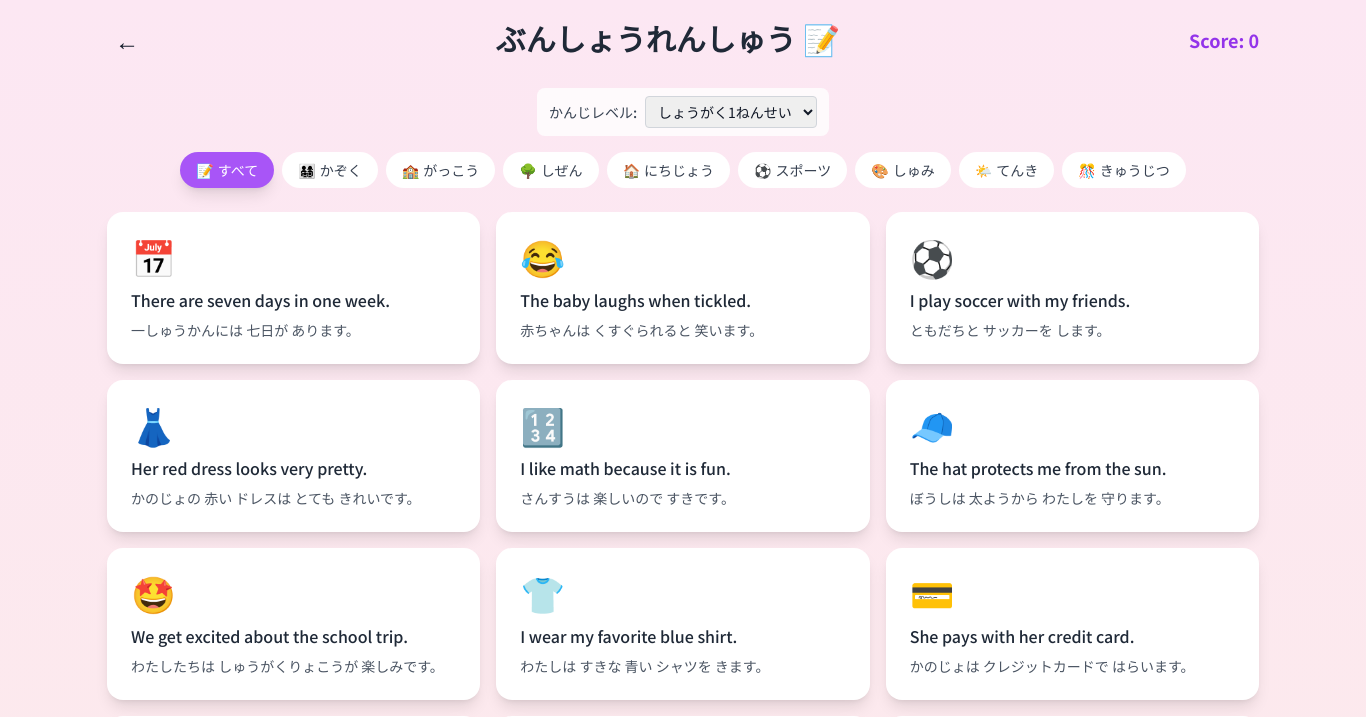
Test case: VocabularyGamePage › 文章カードをクリックするとゲームが開始される
The image size is (1366, 717).
expect the button "📝すべて" is shown: met, box x1=180 y1=152 x2=274 y2=188
Click the button "📅 There are seven days in one week. 一しゅうかんには 七日が あります。".
click(294, 288)  # box x1=107 y1=212 x2=480 y2=364
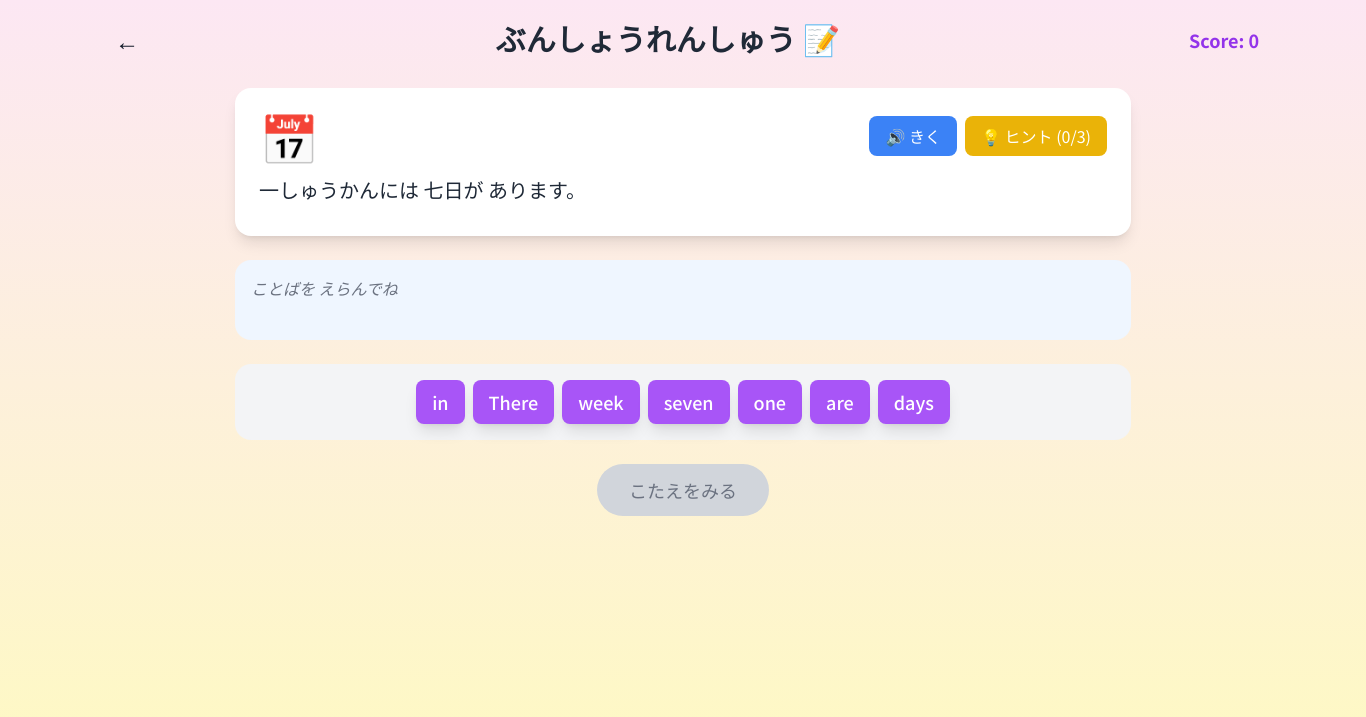
expect the text "ことばを えらんでね" is shown: met, box x1=251 y1=276 x2=398 y2=300
